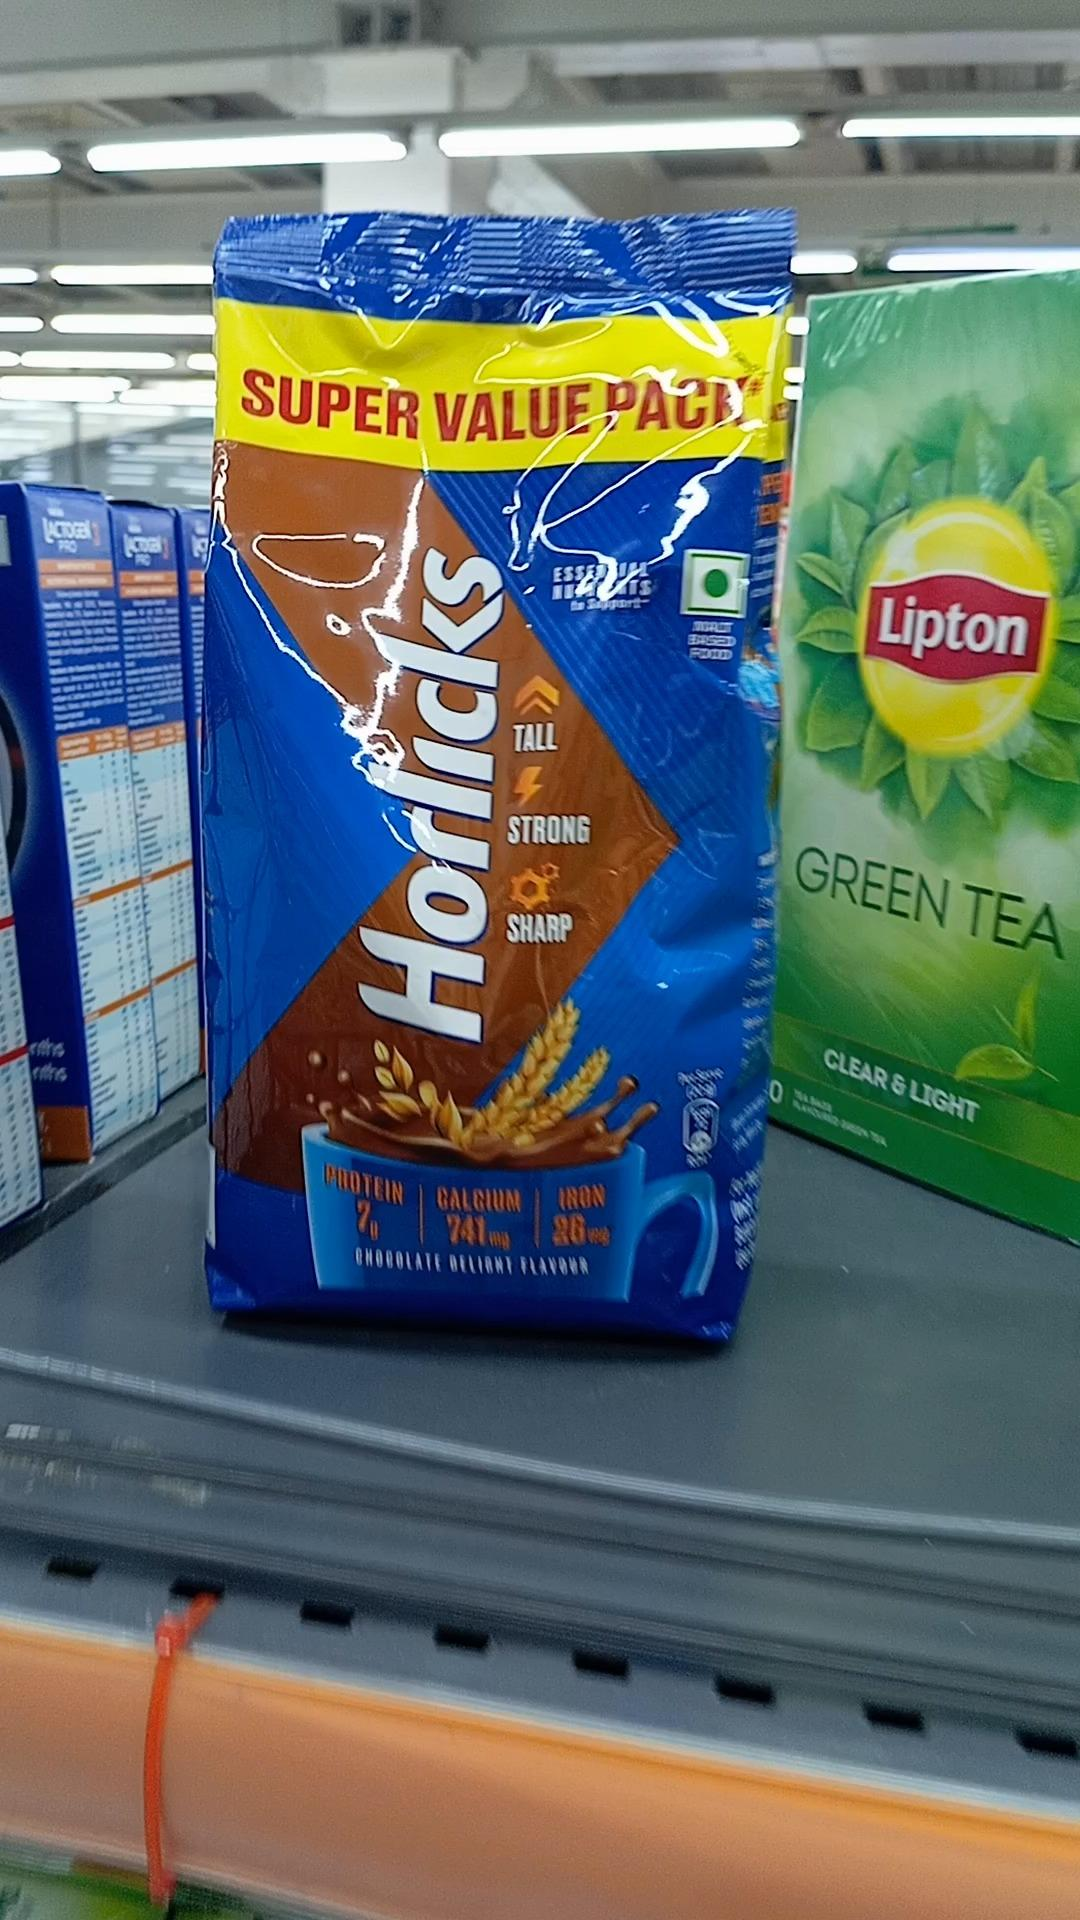HORLICK_CHOCOLATE_750_G_POUCH: (206, 223, 752, 1337)
